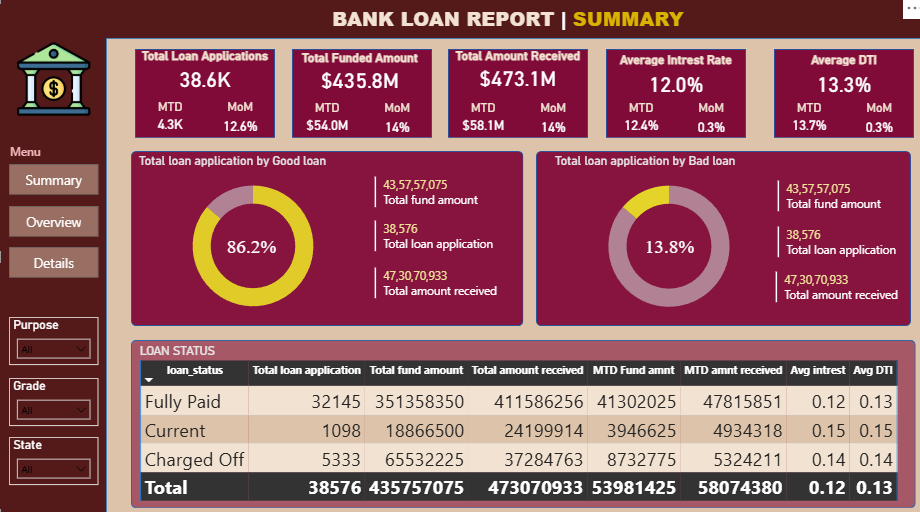

Layout of this report page (visuals, bound fields, positions):
{"tool":"powerbi","page":{"name":"Page 1","canvas":[1280,720],"ordinal":0},"visuals":[{"type":"group","id":"g1","title":"BG","box":[0,0,1280,719.8],"z":0},{"type":"shape","box":[0,0,1280,719.8],"z":0,"group":"g1"},{"type":"card","title":"Total Amount Received","fields":{"Values":["Measures data.Total amount received"]},"box":[618.9,72.7,192.7,61.9],"z":0,"group":"g2"},{"type":"card","title":"Total Loan Applications","fields":{"Values":["Measures data.Total loan application"]},"box":[188,73.1,192.7,64.7],"z":0,"group":"g3"},{"type":"shape","box":[404.6,73.8,192.7,122.5],"z":0,"group":"g10"},{"type":"shape","box":[836.8,73.8,192.7,122.5],"z":0,"group":"g8"},{"type":"shape","box":[1068,73.8,192.7,122.5],"z":0,"group":"g4"},{"type":"shape","box":[188.6,73.9,192.7,122.5],"z":0,"group":"g11"},{"type":"shape","box":[619.4,73.9,192.7,122.5],"z":0,"group":"g9"},{"type":"card","title":"Total Funded Amount","fields":{"Values":["Measures data.Total fund amount"]},"box":[399.8,74.6,198.2,60.6],"z":0,"group":"g5"},{"type":"card","title":"Average Intrest Rate","fields":{"Values":["Measures data.Avg intrest"]},"box":[836.8,77.9,192.7,66.1],"z":0,"group":"g6"},{"type":"card","title":"Average DTI","fields":{"Values":["Measures data.Avg DTI"]},"box":[1068.1,78.6,192.7,66.1],"z":0,"group":"g7"},{"type":"shape","box":[182.9,215.3,540,241],"z":0,"group":"g14"},{"type":"shape","box":[740,215.3,516.1,241],"z":0,"group":"g13"},{"type":"shape","box":[182.9,475.1,1079.8,231.4],"z":0,"group":"g12"},{"type":"shape","box":[148.7,59.2,1131.3,660.6],"z":1000,"group":"g1"},{"type":"group","id":"g2","title":"Group 1","box":[618.9,72.7,193.2,127.8],"z":1000,"group":"g9"},{"type":"group","id":"g3","title":"Group 1","box":[188,73.1,192.7,126.4],"z":1000,"group":"g11"},{"type":"group","id":"g4","title":"Avg DTI","box":[1068,73.8,193.2,127.9],"z":1000},{"type":"group","id":"g5","title":"Group 1","box":[399.8,74.6,198.2,125.8],"z":1000,"group":"g10"},{"type":"group","id":"g6","title":"Group 1","box":[836.8,77.9,192.7,122.5],"z":1000,"group":"g8"},{"type":"group","id":"g7","title":"Group 1","box":[1068.1,78.6,193.1,123],"z":1000,"group":"g4"},{"type":"card","title":"MoM","fields":{"Values":["Measures data.MOM loan"]},"box":[284.3,143.1,96.3,56.4],"z":1000,"group":"g3"},{"type":"card","title":"MoM","fields":{"Values":["Measures data.MoM fund amnt"]},"box":[501,144,96.3,56.4],"z":1000,"group":"g5"},{"type":"card","title":"MoM","fields":{"Values":["Measures data.MoM intrst"]},"box":[933.1,144,96.3,56.4],"z":1000,"group":"g6"},{"type":"card","title":"MoM","fields":{"Values":["Measures data.MoM received amnt"]},"box":[715.7,144.1,96.3,56.4],"z":1000,"group":"g2"},{"type":"card","title":"MoM","fields":{"Values":["Measures data.MoM TDI"]},"box":[1164.4,144.7,96.3,56.4],"z":1000,"group":"g7"},{"type":"donutChart","title":"Total loan application by Bad loan","fields":{"Y":["Measures data.Total loan application"],"Category":["financial_loan.loan G/B"]},"box":[760.5,218.7,324.7,237.5],"z":1000,"group":"g13"},{"type":"multiRowCard","fields":{"Values":["Measures data.Total fund amount"]},"box":[512.7,246.1,176,54.7],"z":1000,"group":"g14"},{"type":"tableEx","title":"LOAN STATUS","fields":{"Values":["financial_loan.loan_status","Measures data.Total loan application","Measures data.Total fund amount","Measures data.Total amount received","Measures data.MTD Fund amnt","Measures data.MTD amnt received","Measures data.Avg intrest","Measures data.Avg DTI"]},"box":[190.2,478.6,1072.5,224.1],"z":1000,"group":"g12"},{"type":"group","id":"g8","title":"Avg intrst","box":[836.8,73.8,192.7,126.6],"z":2000},{"type":"card","title":"MTD","fields":{"Values":["Measures data.MTD Loan"]},"box":[188,143.1,96.3,56.4],"z":2000,"group":"g3"},{"type":"card","title":"MTD","fields":{"Values":["Measures data.MTD Fund amnt"]},"box":[404.6,144,96.3,56.4],"z":2000,"group":"g5"},{"type":"card","title":"MTD","fields":{"Values":["Measures data.MTD avg intrest"]},"box":[836.8,144,96.3,56.4],"z":2000,"group":"g6"},{"type":"card","title":"MTD","fields":{"Values":["Measures data.MTD amnt received"]},"box":[619.4,144.1,96.3,56.4],"z":2000,"group":"g2"},{"type":"card","title":"MTD","fields":{"Values":["Measures data.MTD avg DTI"]},"box":[1068.1,144.7,96.3,56.4],"z":2000,"group":"g7"},{"type":"multiRowCard","fields":{"Values":["Measures data.Total fund amount"]},"box":[1068.1,251.2,176,54.7],"z":2000,"group":"g13"},{"type":"multiRowCard","fields":{"Values":["Measures data.Total loan application"]},"box":[512.7,305.9,184.6,53],"z":2000,"group":"g14"},{"type":"group","id":"g9","title":"Total R amnt","box":[618.9,72.7,193.2,127.8],"z":3000},{"type":"multiRowCard","fields":{"Values":["Measures data.Total loan application"]},"box":[1068.1,314.4,184.6,53],"z":3000,"group":"g13"},{"type":"multiRowCard","fields":{"Values":["Measures data.Total amount received"]},"box":[512.7,370.8,186.3,56.4],"z":3000,"group":"g14"},{"type":"group","id":"g10","title":"Total F amnt","box":[399.8,73.8,198.2,126.6],"z":4000},{"type":"donutChart","title":"Total loan application by Good loan","fields":{"Y":["Measures data.Total loan application"],"Category":["financial_loan.loan G/B"]},"box":[188.6,218.1,324.8,236.7],"z":4000,"group":"g14"},{"type":"multiRowCard","fields":{"Values":["Measures data.Total amount received"]},"box":[1064.7,375.9,186.3,56.4],"z":4000,"group":"g13"},{"type":"group","id":"g11","title":"Total app","box":[188,73.1,193.3,126.4],"z":5000},{"type":"group","id":"g12","title":"Table","box":[182.9,475.1,1080,232.4],"z":6000},{"type":"image","box":[25.7,58.8,101,113.9],"z":7000},{"type":"actionButton","title":"SUMMARY","box":[14.7,233.2,123,42.2],"z":8000},{"type":"actionButton","title":"overview","box":[14.7,290.2,123,42.2],"z":9000},{"type":"actionButton","title":"details","box":[14.7,347.1,123,42.2],"z":10000},{"type":"textbox","title":"menu","box":[0,200.2,75.3,42.2],"z":11000},{"type":"slicer","title":"Purpose","fields":{"Values":["financial_loan.purpose"]},"box":[14.7,442.6,123,66.1],"z":12000},{"type":"slicer","title":"Grade","fields":{"Values":["financial_loan.grade"]},"box":[14.7,527.1,123,66.1],"z":13000},{"type":"slicer","title":"State","fields":{"Values":["financial_loan.address_state"]},"box":[14.7,607.9,123,66.1],"z":14000},{"type":"textbox","title":"Header","box":[450,8.5,512.7,61.5],"z":15000},{"type":"group","id":"g13","title":"Bad Donut","box":[740,215.3,516.1,241],"z":16000},{"type":"group","id":"g14","title":"Good Donut","box":[182.9,215.3,540,241],"z":17000},{"type":"textbox","title":"86.2%","box":[309.3,326.4,82,44.4],"z":18000},{"type":"textbox","title":"13.8%","box":[885.2,326.4,82,44.4],"z":19000}]}

Visuals, with their boxes in screenshot pixels (x1, y1, x2, y2), scaled from the page's 1280x720 canvas onto the 920x512 screenshot:
"BG" group: (0, 0, 919, 511)
shape: (0, 0, 919, 511)
"Total Amount Received" card: (445, 52, 583, 96)
"Total Loan Applications" card: (135, 52, 274, 98)
shape: (291, 52, 429, 140)
shape: (601, 52, 740, 140)
shape: (768, 52, 906, 140)
shape: (136, 53, 274, 140)
shape: (445, 53, 584, 140)
"Total Funded Amount" card: (287, 53, 430, 96)
"Average Intrest Rate" card: (601, 55, 740, 102)
"Average DTI" card: (768, 56, 906, 103)
shape: (131, 153, 520, 324)
shape: (532, 153, 903, 324)
shape: (131, 338, 908, 502)
shape: (107, 42, 919, 511)
"Group 1" group: (445, 52, 584, 143)
"Group 1" group: (135, 52, 274, 142)
"Avg DTI" group: (768, 52, 906, 143)
"Group 1" group: (287, 53, 430, 143)
"Group 1" group: (601, 55, 740, 143)
"Group 1" group: (768, 56, 906, 143)
"MoM" card: (204, 102, 274, 142)
"MoM" card: (360, 102, 429, 143)
"MoM" card: (671, 102, 740, 143)
"MoM" card: (514, 102, 584, 143)
"MoM" card: (837, 103, 906, 143)
"Total loan application by Bad loan" donutChart: (547, 156, 780, 324)
multiRowCard - Measures data.Total fund amount: (369, 175, 495, 214)
"LOAN STATUS" tableEx: (137, 340, 908, 500)
"Avg intrst" group: (601, 52, 740, 143)
"MTD" card: (135, 102, 204, 142)
"MTD" card: (291, 102, 360, 143)
"MTD" card: (601, 102, 671, 143)
"MTD" card: (445, 102, 514, 143)
"MTD" card: (768, 103, 837, 143)
multiRowCard - Measures data.Total fund amount: (768, 179, 894, 218)
multiRowCard - Measures data.Total loan application: (369, 218, 501, 255)
"Total R amnt" group: (445, 52, 584, 143)
multiRowCard - Measures data.Total loan application: (768, 224, 900, 261)
multiRowCard - Measures data.Total amount received: (369, 264, 502, 304)
"Total F amnt" group: (287, 52, 430, 143)
"Total loan application by Good loan" donutChart: (136, 155, 369, 323)
multiRowCard - Measures data.Total amount received: (765, 267, 899, 307)
"Total app" group: (135, 52, 274, 142)
"Table" group: (131, 338, 908, 503)
image: (18, 42, 91, 123)
"SUMMARY" actionButton: (11, 166, 99, 196)
"overview" actionButton: (11, 206, 99, 236)
"details" actionButton: (11, 247, 99, 277)
"menu" textbox: (0, 142, 54, 172)
"Purpose" slicer: (11, 315, 99, 362)
"Grade" slicer: (11, 375, 99, 422)
"State" slicer: (11, 432, 99, 479)
"Header" textbox: (323, 6, 692, 50)
"Bad Donut" group: (532, 153, 903, 324)
"Good Donut" group: (131, 153, 520, 324)
"86.2%" textbox: (222, 232, 281, 264)
"13.8%" textbox: (636, 232, 695, 264)
